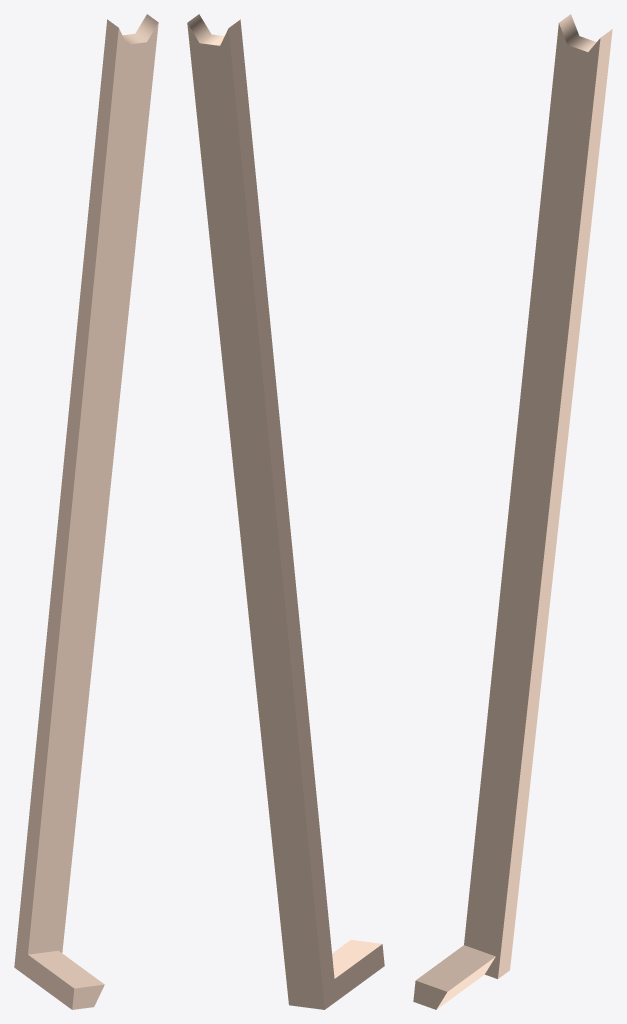
The model's file is Pied detente Cremaillere_Quarts Cremaillere.obj.
3 renders of one model, left to right at view 1: azimuth 30°, elevation 25°; view 2: azimuth 150°, elevation 25°; view 3: azimuth 330°, elevation 25°, orthographic. The views are drawn at different scales.
Parts seen in each view (by area): view 1: Face_4, Face_6, Face_1, Face_2, Face_9; view 2: Face_3, Face_6, Face_1, Face_9; view 3: Face_4, Face_7, Face_1, Face_2, Face_9, Face_8.
Boxes of the visible parts, x1,y1,x2,y2 form: Face_4: (28,23,158,954); Face_6: (14,19,118,1009); Face_1: (28,950,104,988); Face_2: (72,984,104,1009); Face_9: (122,14,158,44); Face_3: (187,23,324,1009); Face_6: (228,19,384,1009); Face_1: (332,940,381,978); Face_9: (187,14,224,45); Face_4: (464,23,600,978); Face_7: (498,29,612,978); Face_1: (416,945,495,991); Face_2: (413,981,446,1009); Face_9: (559,14,596,51); Face_8: (436,957,495,1009).
Size of the model in its own units: 0.0199 by 0.1328 by 0.015.
